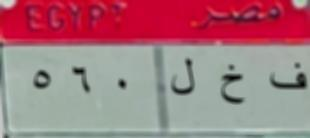0: (112, 71, 130, 93)
5: (30, 64, 53, 97)
6: (68, 60, 94, 98)
faa: (267, 58, 308, 95)
khaa: (218, 61, 247, 110)
laam: (168, 54, 198, 99)
